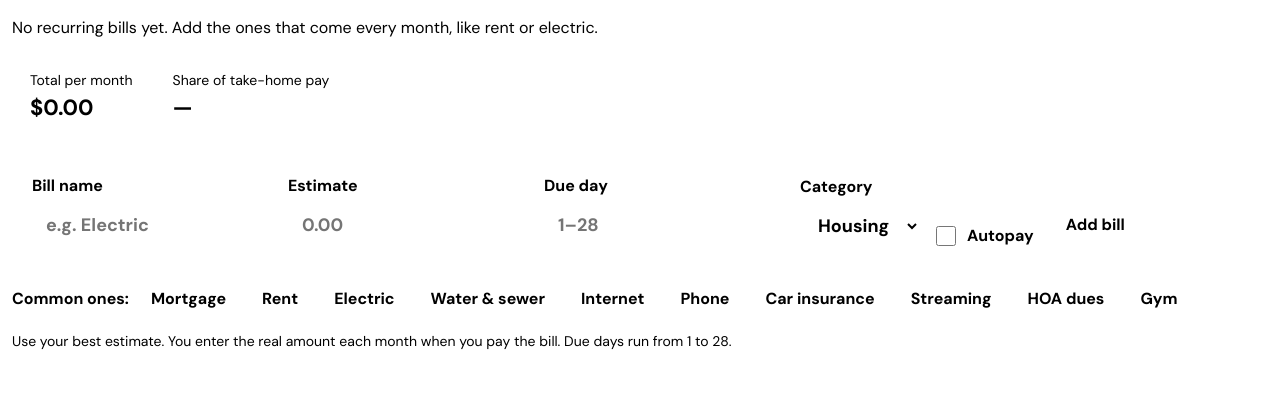
Test: P1-12 recurring bills step › adds a bill with name, estimate, due day, category and autopay
Check: the field labelled "Bill name" is shown, box [32,202,276,249]
Step 1. Select "Utilities" in the dropdown labelled "Category" → (860, 226), box [800,203,920,249]
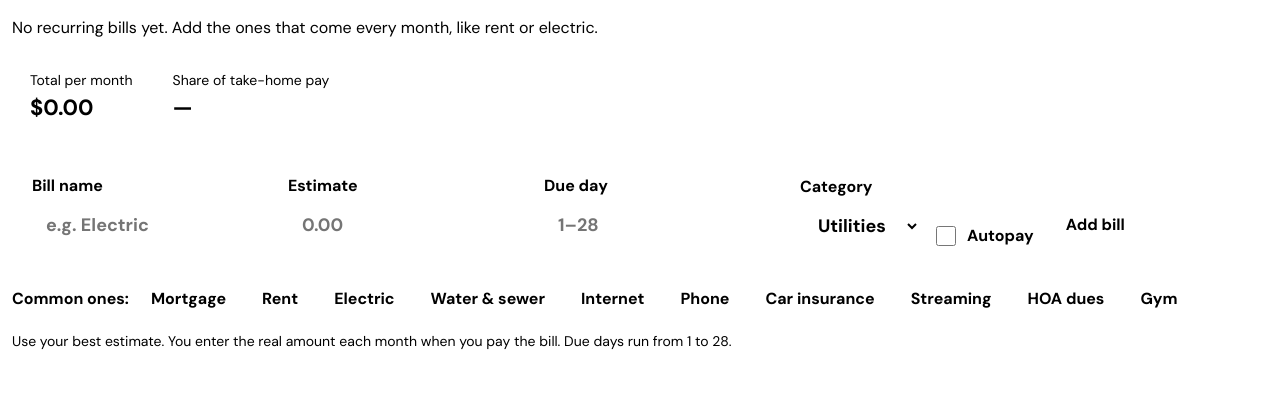
Step 2. Click the checkbox labelled "Autopay" → (946, 236), box [936,226,956,246]
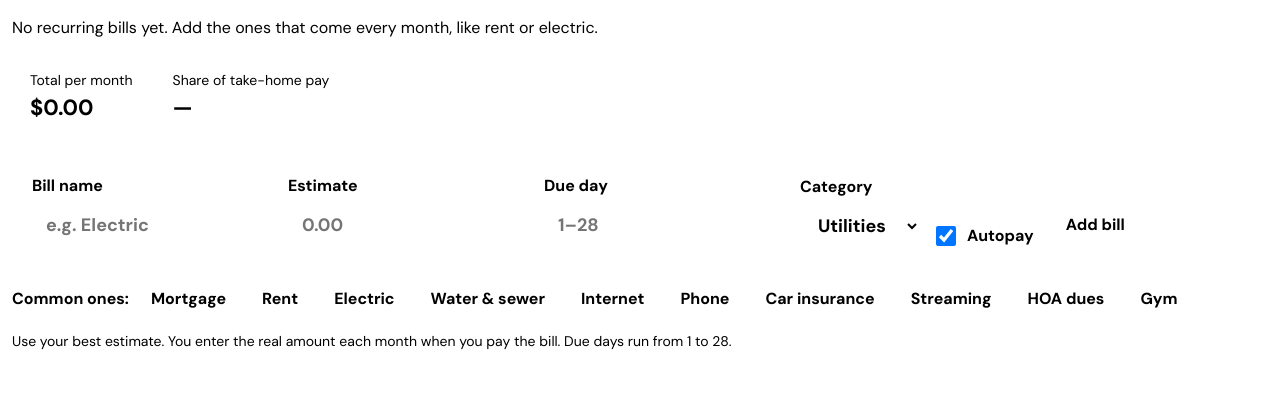
Step 3. Type "  Water " into the field labelled "Bill name" → (154, 226), box [32,202,276,249]
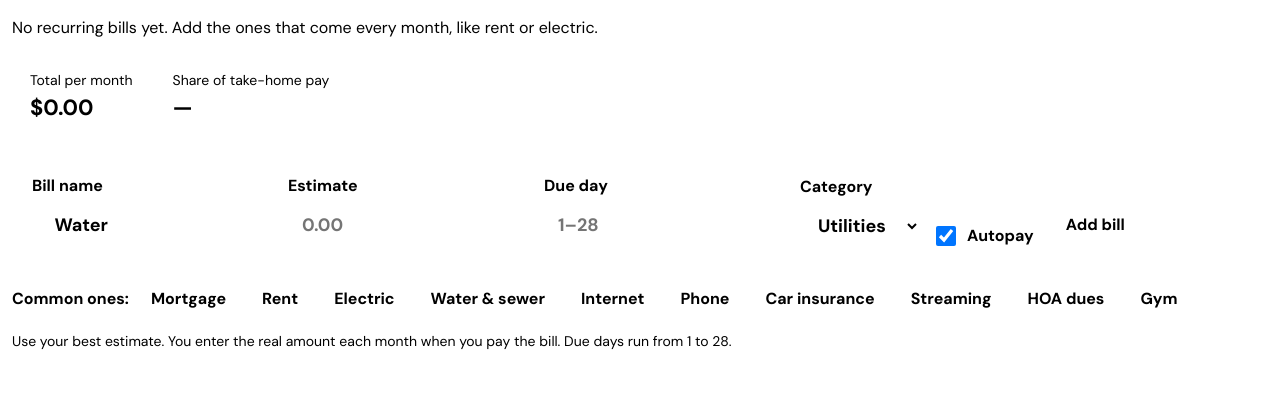
Step 4. Type "45.50" into the field labelled "Estimate" → (410, 226), box [288,202,532,249]
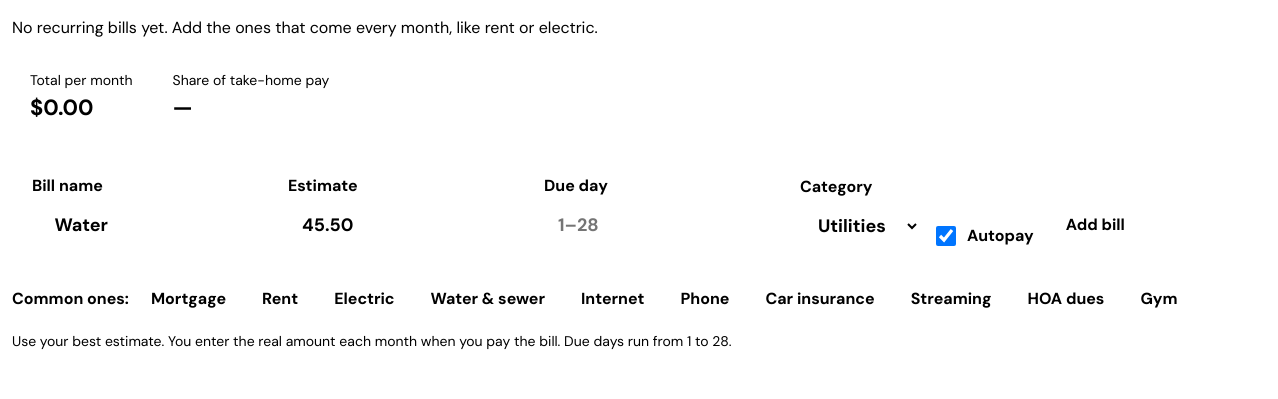
Step 5. Type "15" into the field labelled "Due day" → (666, 226), box [544,202,788,249]
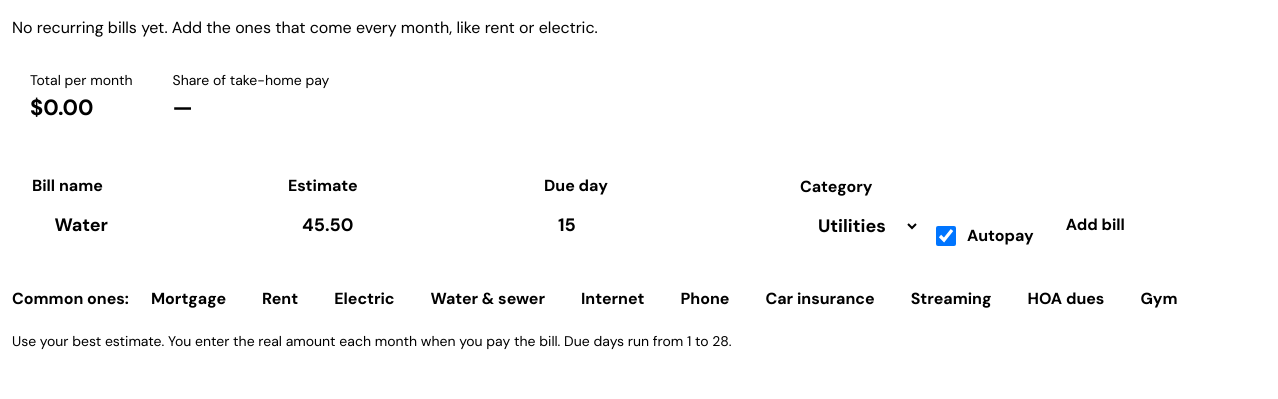
Step 6. Click the button "Add bill" → (1095, 225), box [1046,201,1145,249]
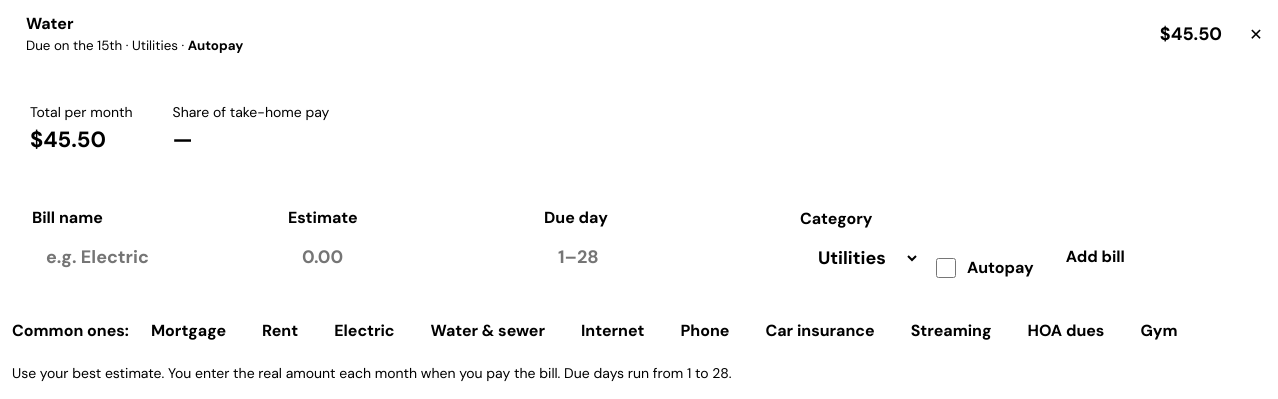
Check: the text "Water" is shown, box [26,13,74,34]
